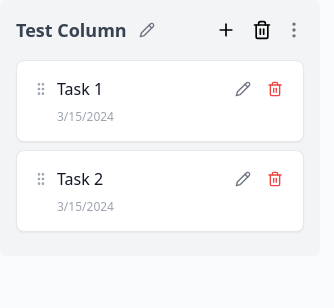
Test: Column Component › shows add task form when add button is clicked
Click the button named "Add task" at {"x": 226, "y": 30}, box [212,16,240,44]
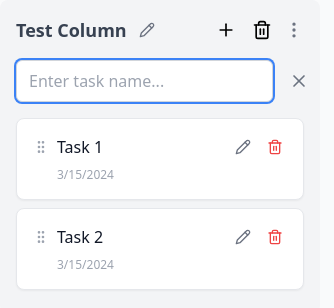
Check: the field with placeholder "Enter task name..." is shown, box [16,60,273,102]
Check: the button named "Cancel" is shown, box [281,60,317,102]
